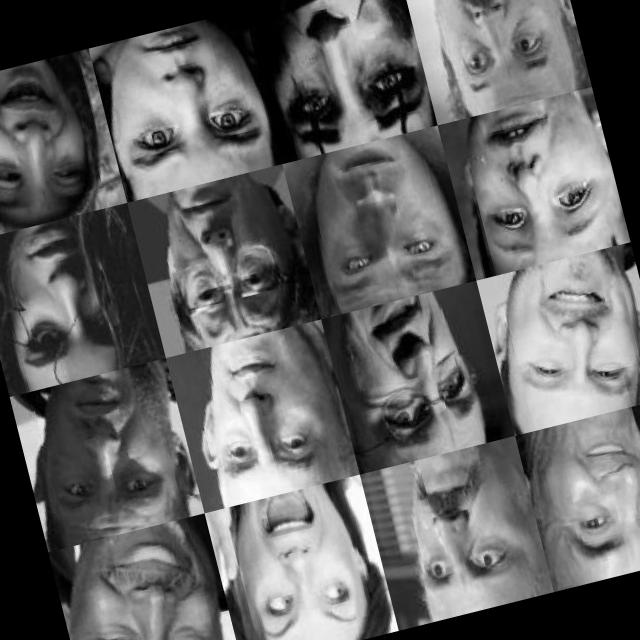fear: (391, 430, 533, 611), (261, 0, 423, 153), (428, 0, 568, 101)
happy: (215, 496, 403, 640), (492, 252, 640, 423), (75, 530, 221, 640), (534, 417, 640, 568)
neutral: (185, 308, 339, 488), (152, 161, 300, 322), (125, 30, 278, 175), (38, 363, 176, 522), (312, 145, 459, 294), (346, 289, 489, 438), (2, 223, 138, 369)
sad: (468, 108, 602, 253), (0, 81, 109, 221)
